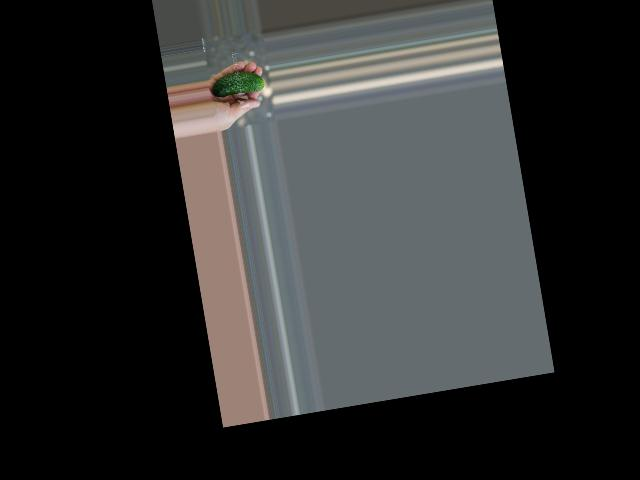cucumber: (210, 67, 264, 98)
